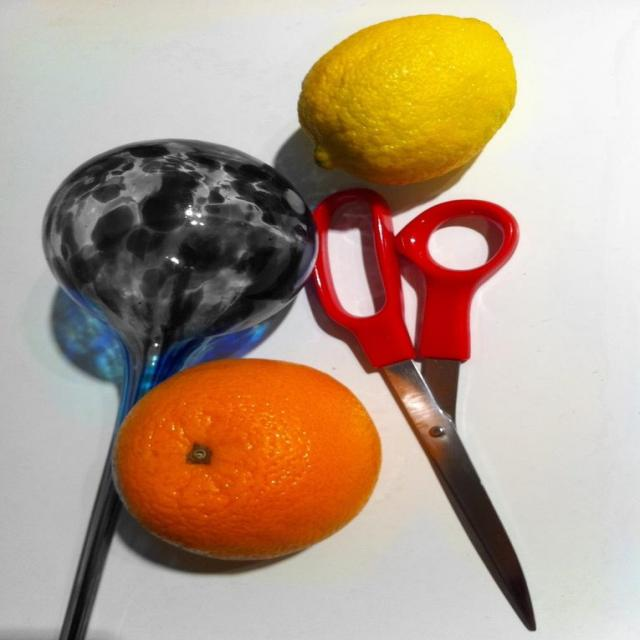scissor: (301, 190, 541, 630)
